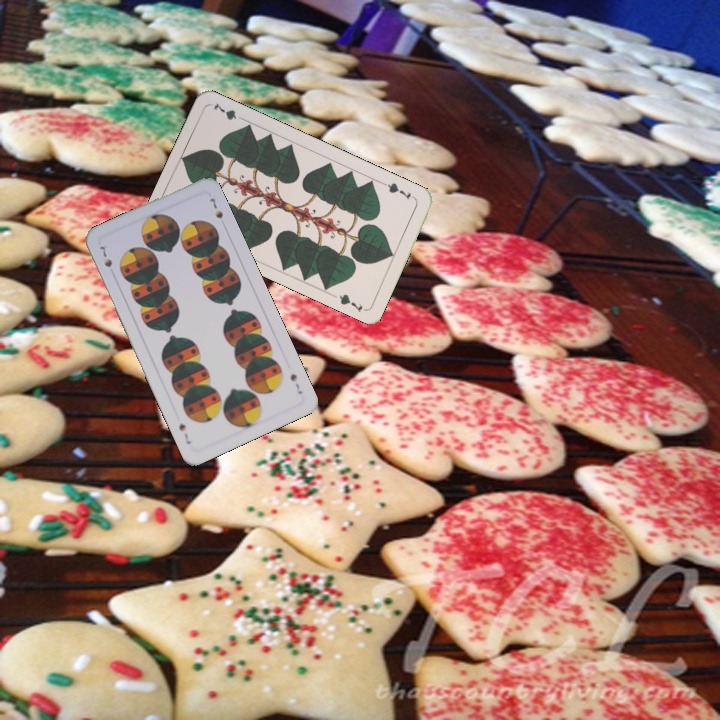G7: (380, 179, 413, 202)
S7: (95, 242, 115, 270), (286, 370, 305, 397)
